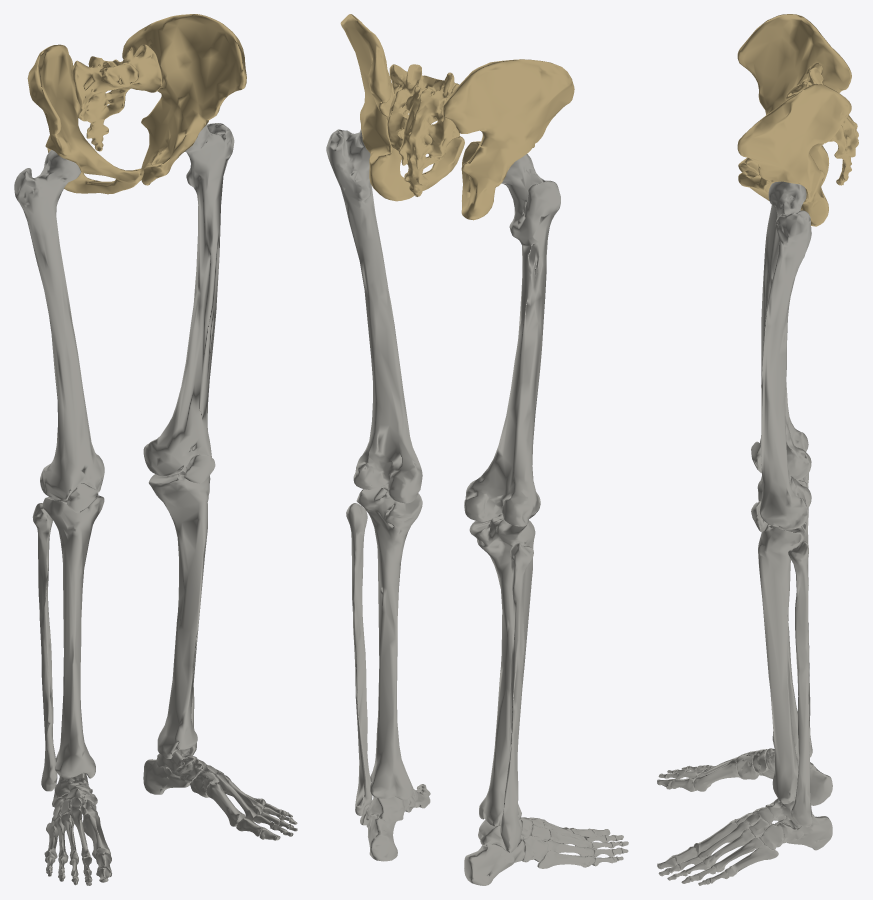
Rendered from anatomy.glb.
The picture shows the model from 3 angles, left to right: view 1: azimuth 30°, elevation 25°; view 2: azimuth 150°, elevation 25°; view 3: azimuth 270°, elevation 25°; orthographic projection. The views are drawn at different scales.
Visible parts, largest first — view 1: Femur_R, HipBone_L, Femur_L, Tibia_L, Patella_R, HipBone_R, Foot_L, Sacrum, Foot_R, Fibula_L, Fibula_R, Tibia_R; view 2: Femur_R, Femur_L, HipBone_R, Tibia_L, HipBone_L, Patella_R, Foot_R, Sacrum, Fibula_L, Patella_L, Foot_L; view 3: Femur_L, HipBone_L, Tibia_L, HipBone_R, Foot_L, Patella_L, Foot_R, Femur_R, Sacrum, Patella_R, Fibula_L.
Boxes of the visible parts, x1,y1,x2,y2 form: Femur_R: [14, 149, 104, 500]; HipBone_L: [122, 14, 246, 185]; Femur_L: [143, 123, 234, 476]; Tibia_L: [148, 467, 210, 758]; Patella_R: [42, 495, 104, 778]; HipBone_R: [27, 44, 144, 194]; Foot_L: [143, 748, 297, 840]; Sacrum: [72, 44, 162, 151]; Foot_R: [44, 773, 111, 885]; Fibula_L: [32, 503, 57, 791]; Fibula_R: [184, 454, 215, 483]; Tibia_R: [67, 483, 98, 513]; Femur_R: [464, 154, 560, 526]; Femur_L: [326, 129, 422, 503]; HipBone_R: [441, 59, 574, 220]; Tibia_L: [356, 484, 422, 799]; HipBone_L: [340, 14, 464, 201]; Patella_R: [469, 514, 535, 826]; Foot_R: [464, 817, 628, 885]; Sacrum: [386, 64, 459, 196]; Fibula_L: [500, 542, 533, 852]; Patella_L: [346, 503, 372, 815]; Foot_L: [360, 784, 430, 861]; Femur_L: [759, 181, 811, 529]; HipBone_L: [737, 84, 851, 226]; Tibia_L: [758, 522, 806, 804]; HipBone_R: [737, 14, 851, 185]; Foot_L: [657, 798, 832, 885]; Patella_L: [788, 540, 812, 827]; Foot_R: [657, 748, 832, 805]; Femur_R: [760, 205, 811, 480]; Sacrum: [785, 62, 858, 185]; Patella_R: [757, 476, 809, 753]; Fibula_L: [796, 473, 812, 757].
Size of the model in its own units: 0.3387 by 1.03 by 0.2433.
